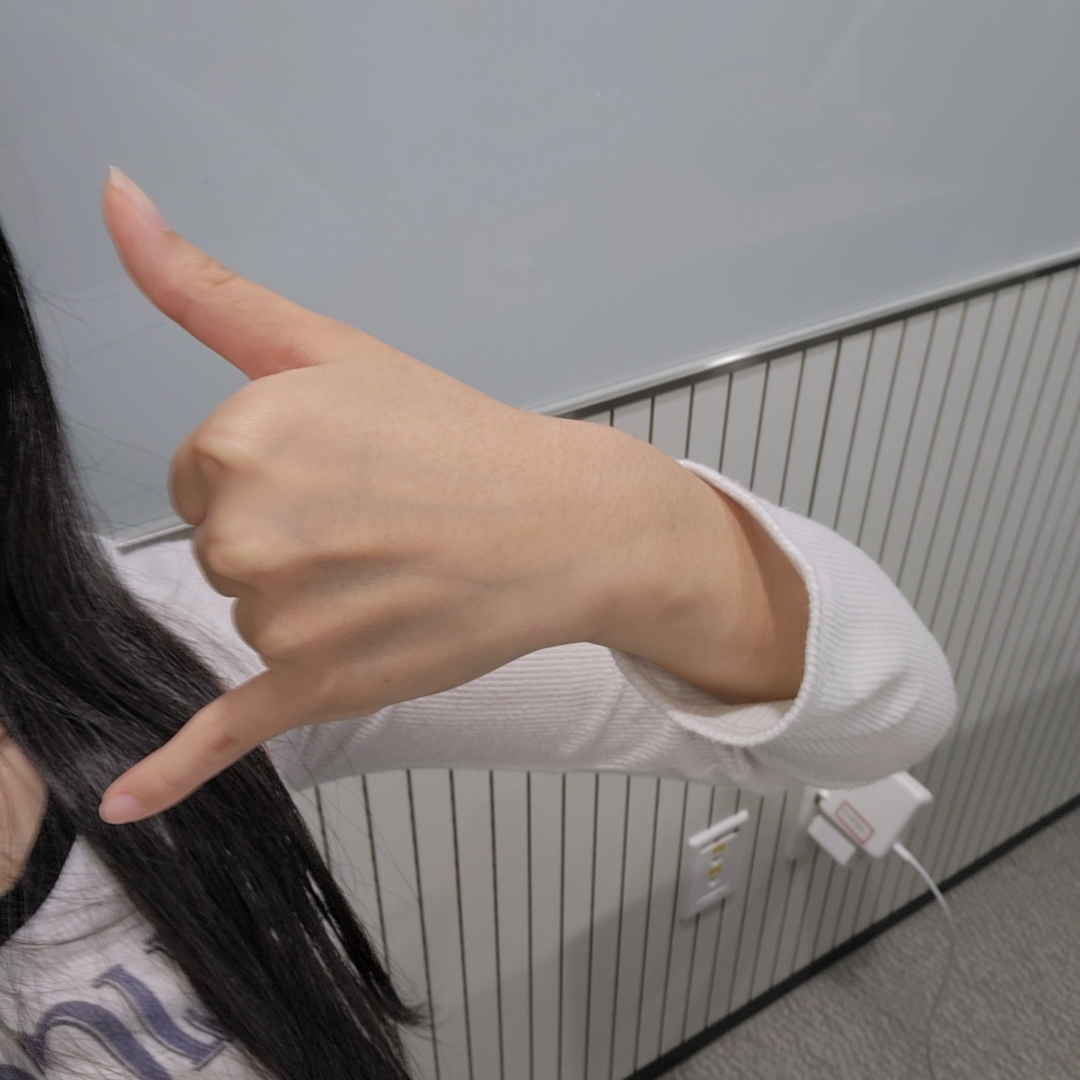call: (95, 163, 547, 826)
